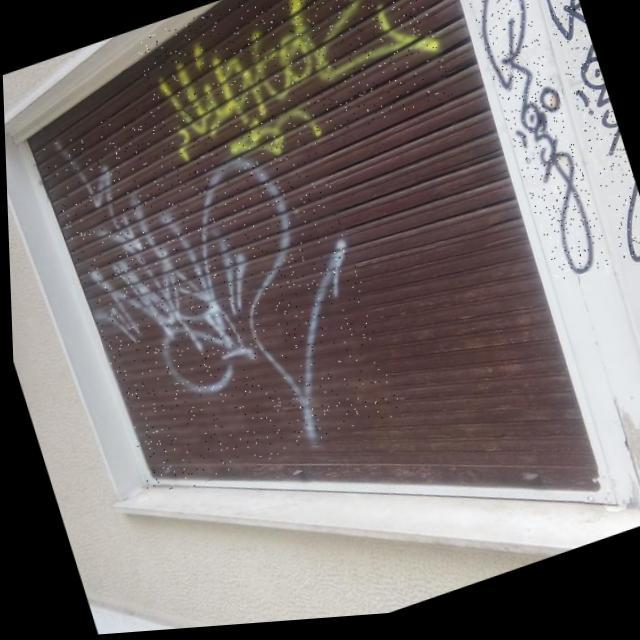-: (36, 54, 401, 508), (130, 0, 457, 194), (463, 0, 608, 295), (522, 0, 640, 280)
